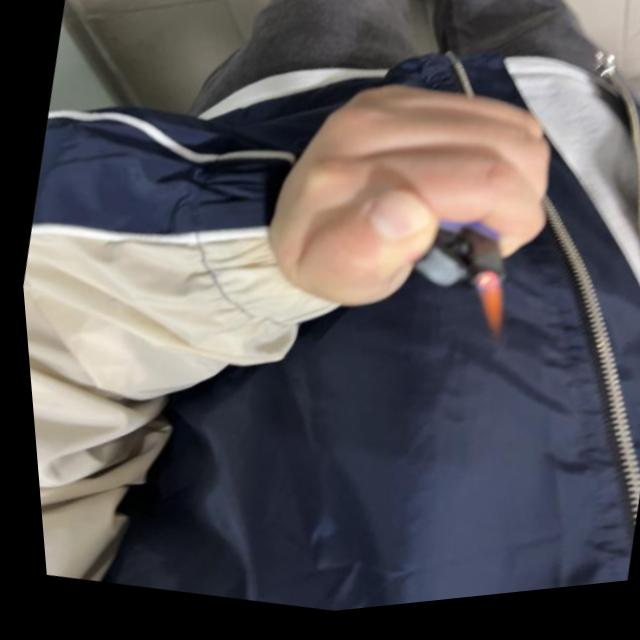Fire: (453, 277, 511, 358)
